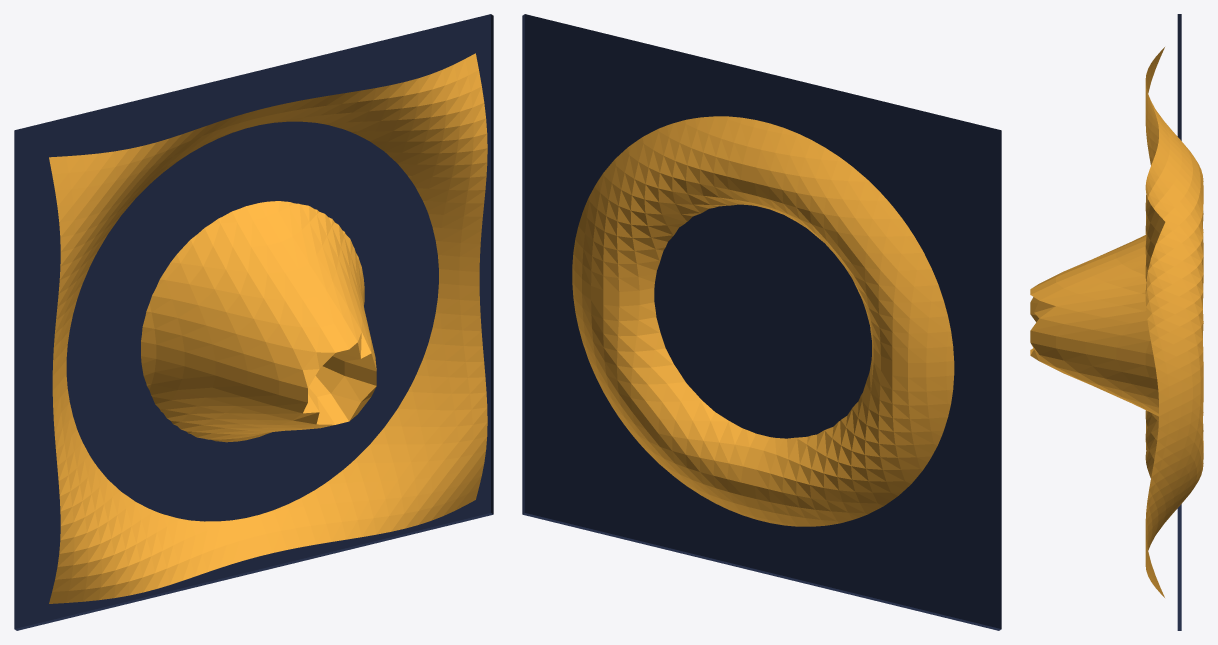
The picture shows the model from 3 angles, left to right: view 1: azimuth 30°, elevation 25°; view 2: azimuth 150°, elevation 25°; view 3: azimuth 270°, elevation 25°; orthographic projection. The views are drawn at different scales.
Parts seen in each view (by area): view 1: math-surface; view 2: math-surface; view 3: math-surface.
Part boxes in pixels (x1=…): math-surface: x1=14, y1=14, x2=493, y2=630; math-surface: x1=522, y1=14, x2=1001, y2=630; math-surface: x1=1030, y1=14, x2=1203, y2=630.
Bounding box in the file's own units: 6.7 × 6.7 × 2.5.
